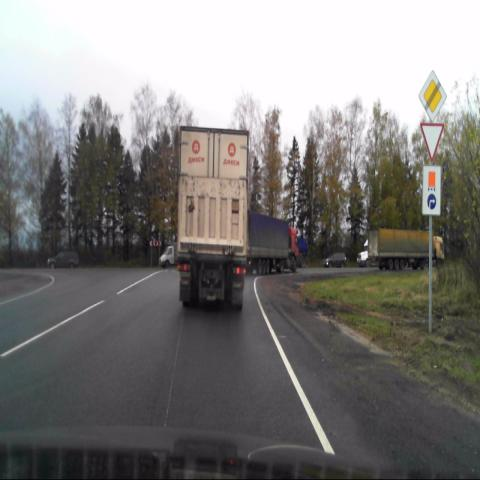4_8_3: (423, 166, 441, 216)
